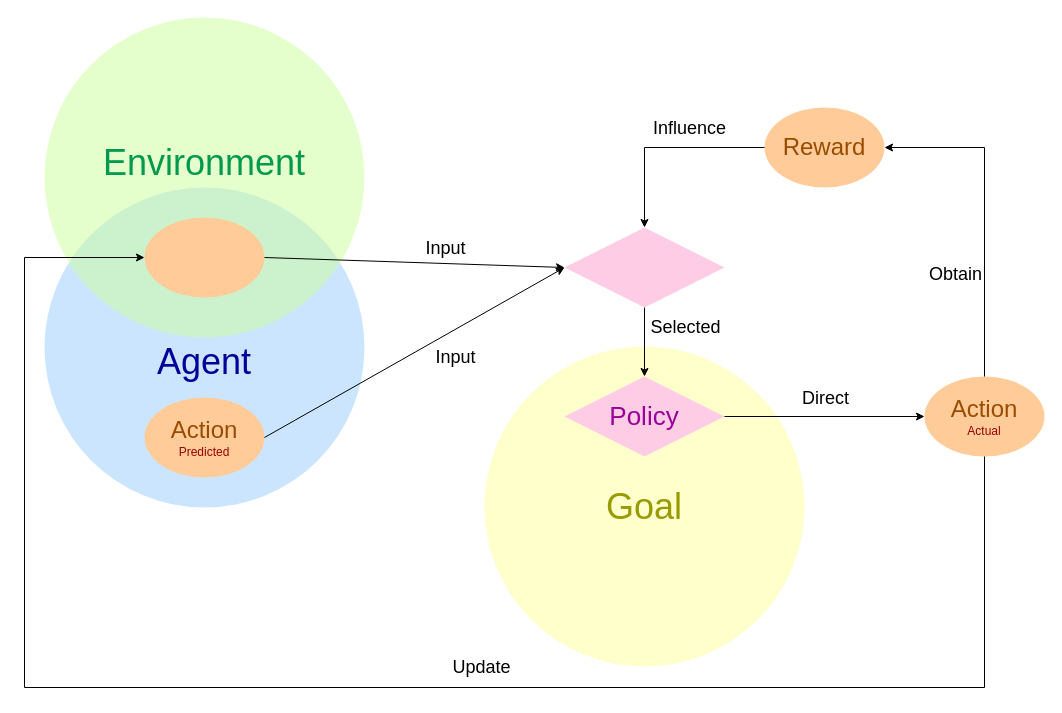
The diagram is 1062 pixels wide and 713 high, and some of its shapes have lost their labels. The shapes that lost their labels are listed below. From the top down, each one's centre as x and y in pixels, then its label:
At pixel 204 257: "State".
At pixel 644 267: "Value".
